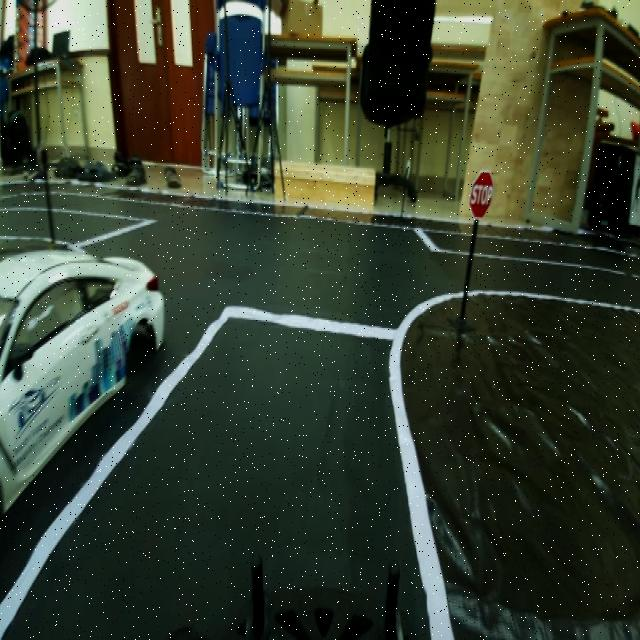car: (1, 227, 164, 440)
stop: (466, 172, 500, 227)
